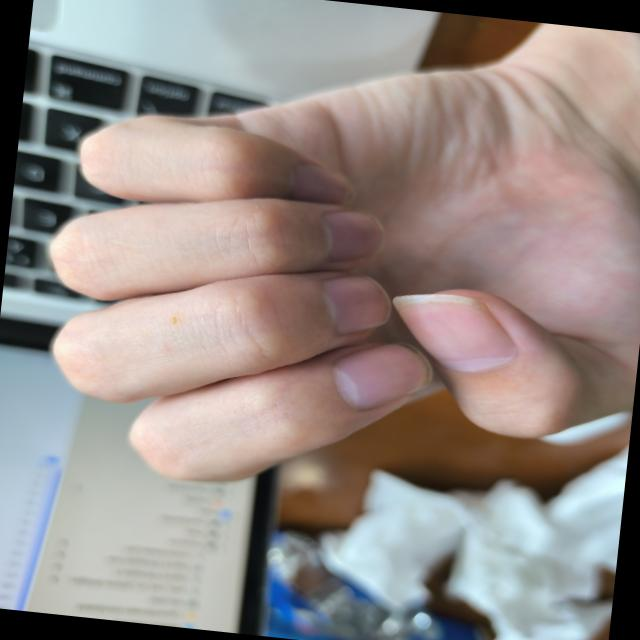Nail: (391, 293, 515, 370), (333, 339, 430, 408), (320, 274, 390, 333), (318, 209, 384, 263), (287, 164, 356, 204)
